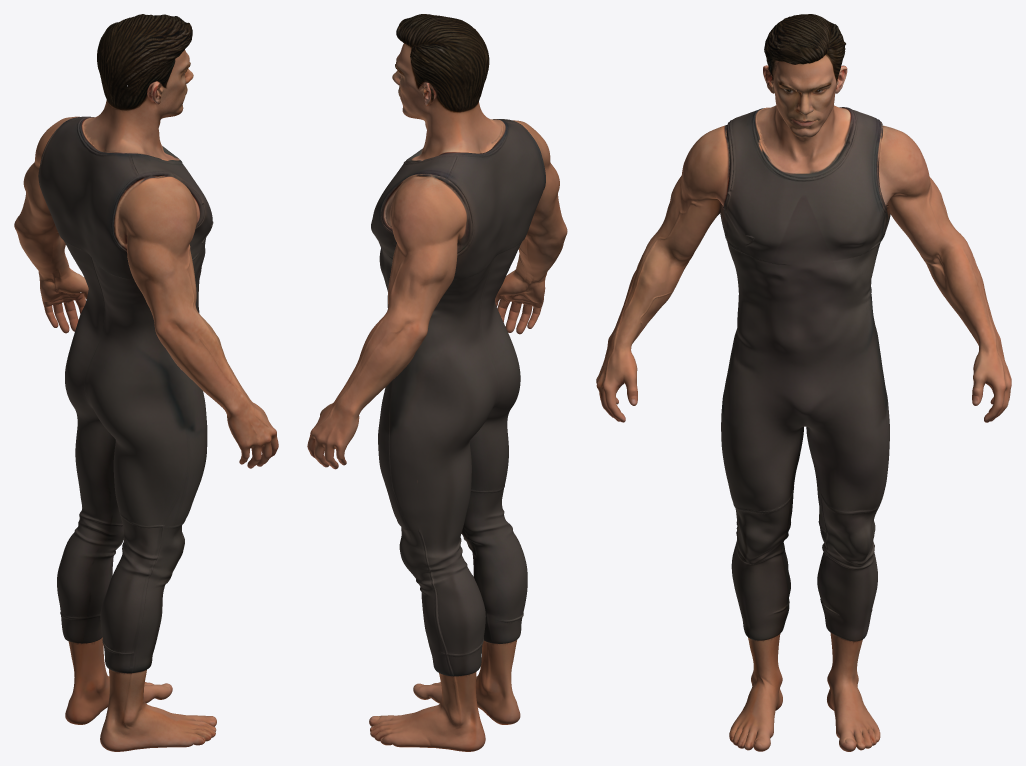
File: men.glb
3 views of the same model, side by side, from view 1: azimuth 30°, elevation 25°; view 2: azimuth 150°, elevation 25°; view 3: azimuth 270°, elevation 25° (orthographic).
Parts seen in each view (by area): view 1: tripo_node_8427912e-623b-403a-95ac-5995a346b4f9; view 2: tripo_node_8427912e-623b-403a-95ac-5995a346b4f9; view 3: tripo_node_8427912e-623b-403a-95ac-5995a346b4f9.
Part boxes in pixels (<box>): tripo_node_8427912e-623b-403a-95ac-5995a346b4f9: <box>14,14,278,751</box>; tripo_node_8427912e-623b-403a-95ac-5995a346b4f9: <box>307,14,567,751</box>; tripo_node_8427912e-623b-403a-95ac-5995a346b4f9: <box>596,14,1011,751</box>.
Bounding box in the file's own units: 0.3284 × 1.85 × 0.9778.
1 material, 1 textured.
